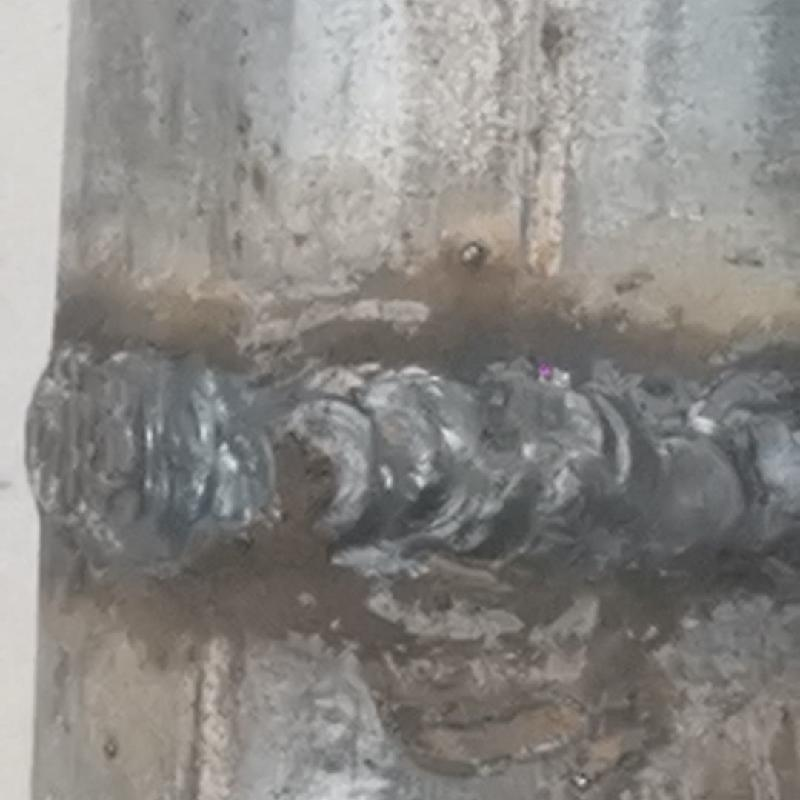good: (11, 324, 799, 576)
